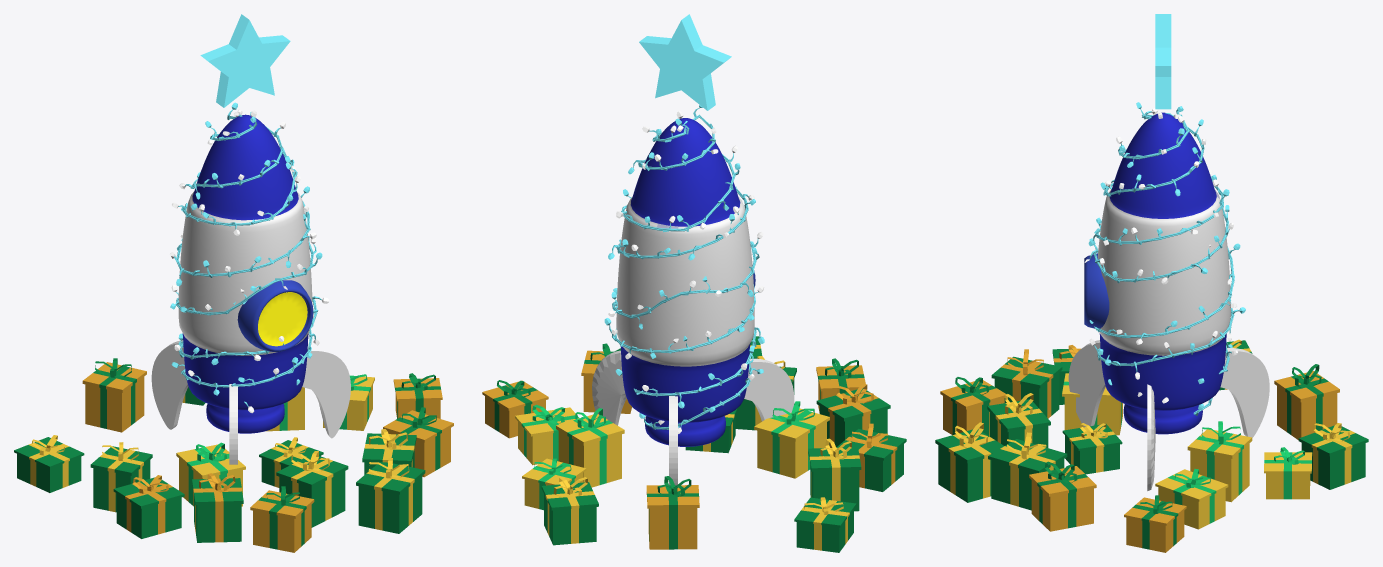
3 views of the same model, side by side, from view 1: azimuth 30°, elevation 25°; view 2: azimuth 150°, elevation 25°; view 3: azimuth 270°, elevation 25° (orthographic). The views are drawn at different scales.
Parts seen in each view (by area): view 1: GIFTPLAN, SPACESHIP, onametaplacingnode, BezierCurve.003, Cylinder.005, Star; view 2: GIFTPLAN, SPACESHIP, onametaplacingnode, BezierCurve.003, Star; view 3: GIFTPLAN, SPACESHIP, onametaplacingnode, BezierCurve.003, Star, Cylinder.005.
Part boxes in pixels (left/top/right/bottom): GIFTPLAN: left=14, top=358, right=453, bottom=552; SPACESHIP: left=178, top=114, right=312, bottom=433; onametaplacingnode: left=170, top=102, right=329, bottom=413; BezierCurve.003: left=151, top=340, right=350, bottom=464; Cylinder.005: left=237, top=280, right=313, bottom=352; Star: left=200, top=14, right=290, bottom=107; GIFTPLAN: left=482, top=336, right=906, bottom=552; SPACESHIP: left=616, top=118, right=754, bottom=446; onametaplacingnode: left=604, top=105, right=764, bottom=433; BezierCurve.003: left=592, top=350, right=794, bottom=485; Star: left=639, top=14, right=731, bottom=110; GIFTPLAN: left=935, top=339, right=1368, bottom=552; SPACESHIP: left=1097, top=112, right=1230, bottom=434; onametaplacingnode: left=1084, top=102, right=1245, bottom=415; BezierCurve.003: left=1068, top=340, right=1269, bottom=491; Star: left=1155, top=14, right=1171, bottom=109; Cylinder.005: left=1084, top=253, right=1109, bottom=328.
Size of the model in its own units: 5.32 by 5.86 by 5.12.
Materials: 2 (2 with a texture image).
